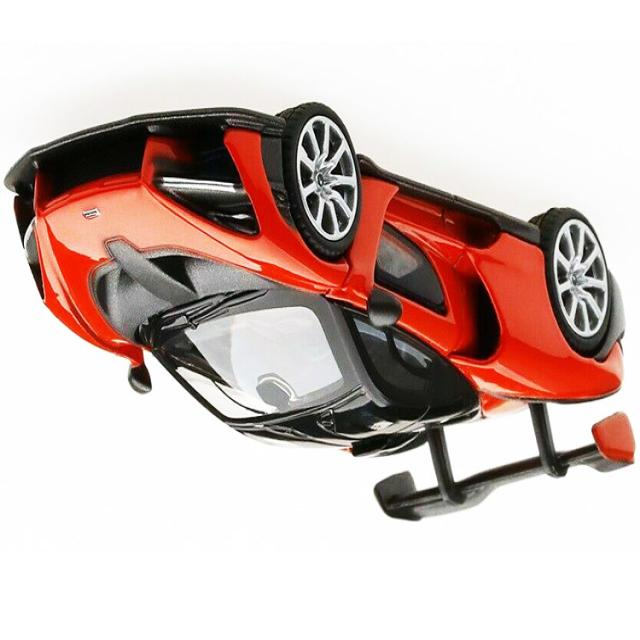Car: (6, 102, 635, 524)
